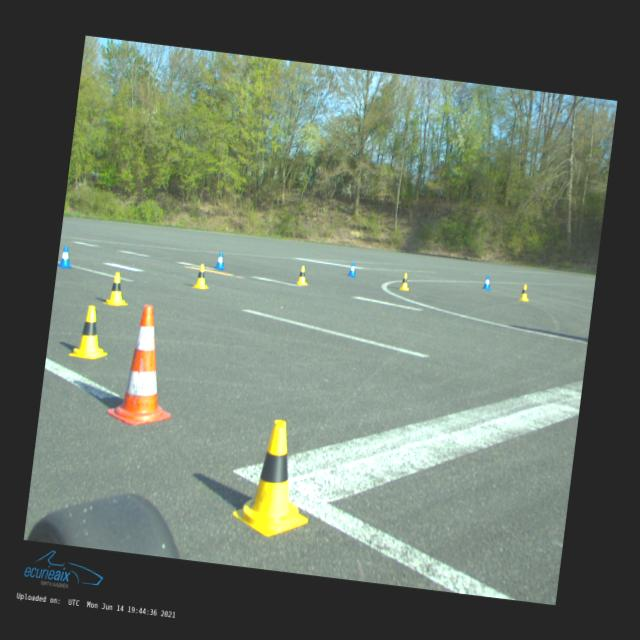blue_cone: (57, 246, 74, 268), (214, 252, 226, 270), (482, 274, 492, 290), (347, 262, 358, 276)
large_orange_cone: (106, 302, 183, 429)
yellow_cone: (230, 415, 320, 540), (68, 304, 113, 360), (103, 270, 131, 306), (192, 263, 210, 289), (295, 264, 309, 284), (398, 272, 411, 291), (518, 283, 530, 301)
